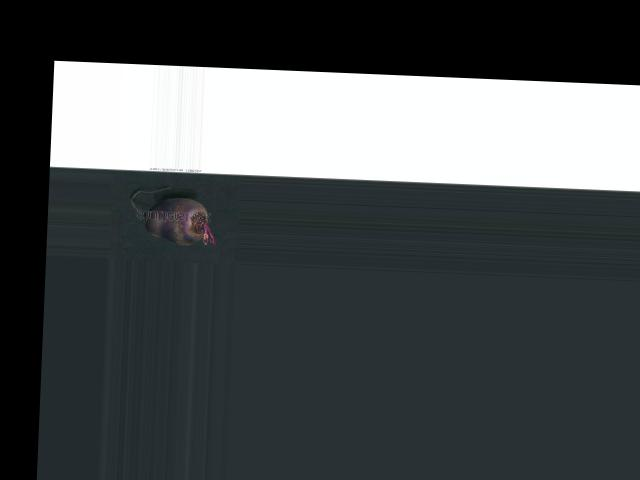beet: (129, 185, 220, 246)
